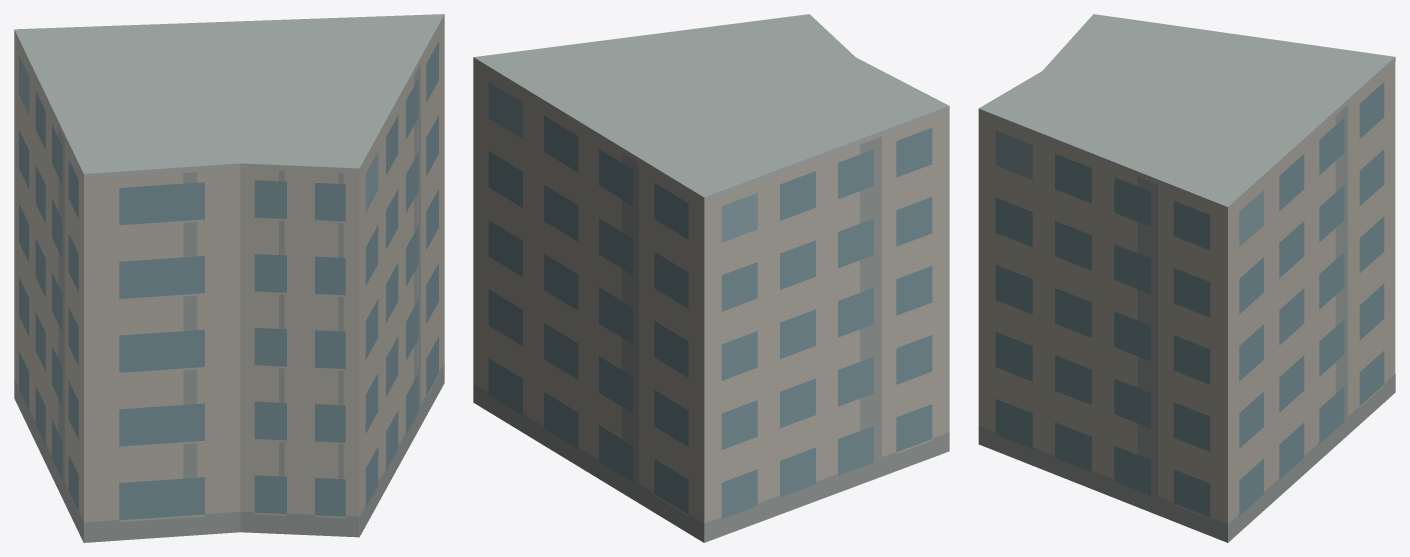
The model's file is survey-upis-33030806.glb.
3 renders of one model, left to right at view 1: azimuth 30°, elevation 25°; view 2: azimuth 150°, elevation 25°; view 3: azimuth 270°, elevation 25°, orthographic. The views are drawn at different scales.
Visible parts, largest first — view 1: survey-upis-33030806.tmp; view 2: survey-upis-33030806.tmp; view 3: survey-upis-33030806.tmp.
Boxes of the visible parts, bbox=[...] form: survey-upis-33030806.tmp: bbox=[14, 14, 444, 542]; survey-upis-33030806.tmp: bbox=[473, 14, 949, 542]; survey-upis-33030806.tmp: bbox=[978, 14, 1395, 542].
Bounding box in the file's own units: 19.25 × 15.6 × 17.56.
